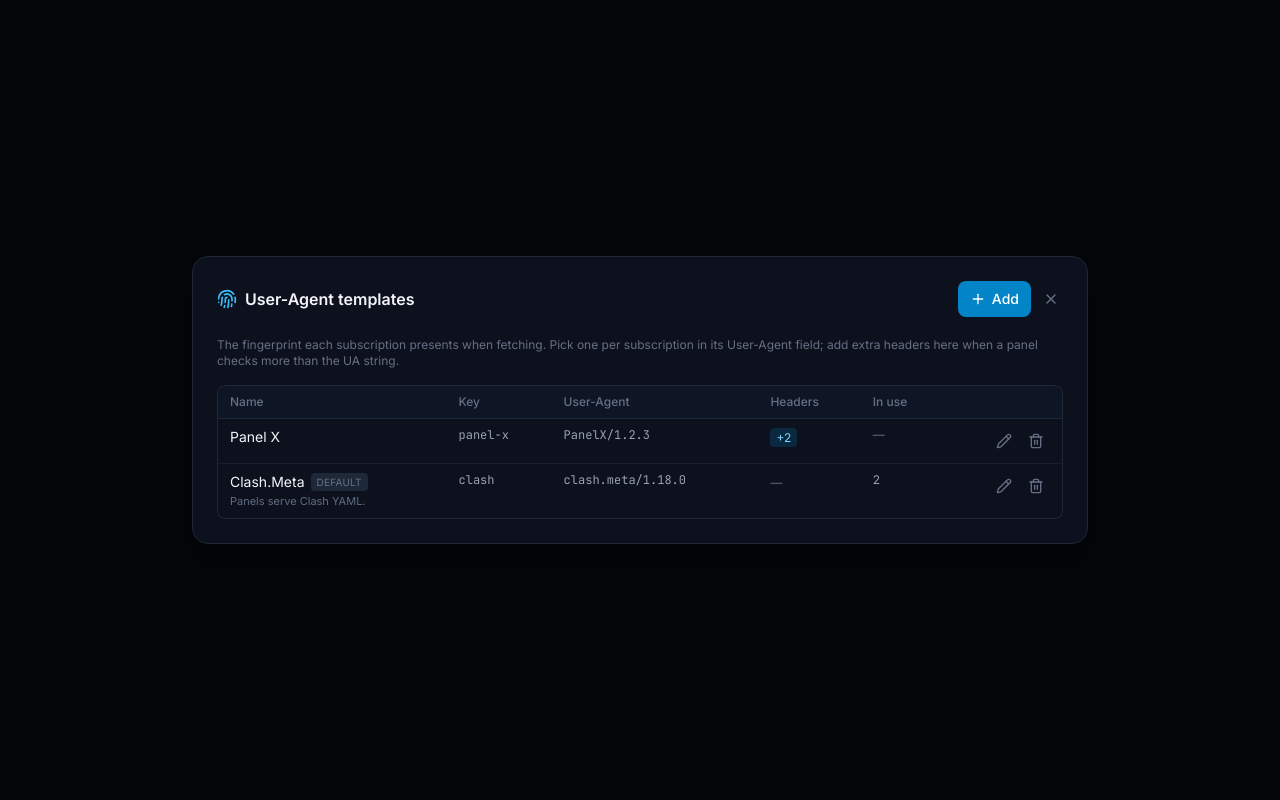
Scenario: <UserAgentTemplatesModal> › blocks a header name the transport owns
Expected: the text "Panel X" is shown, [230,427,280,447]
Click the button "Add".
click(994, 299)  # box [958,281,1031,317]
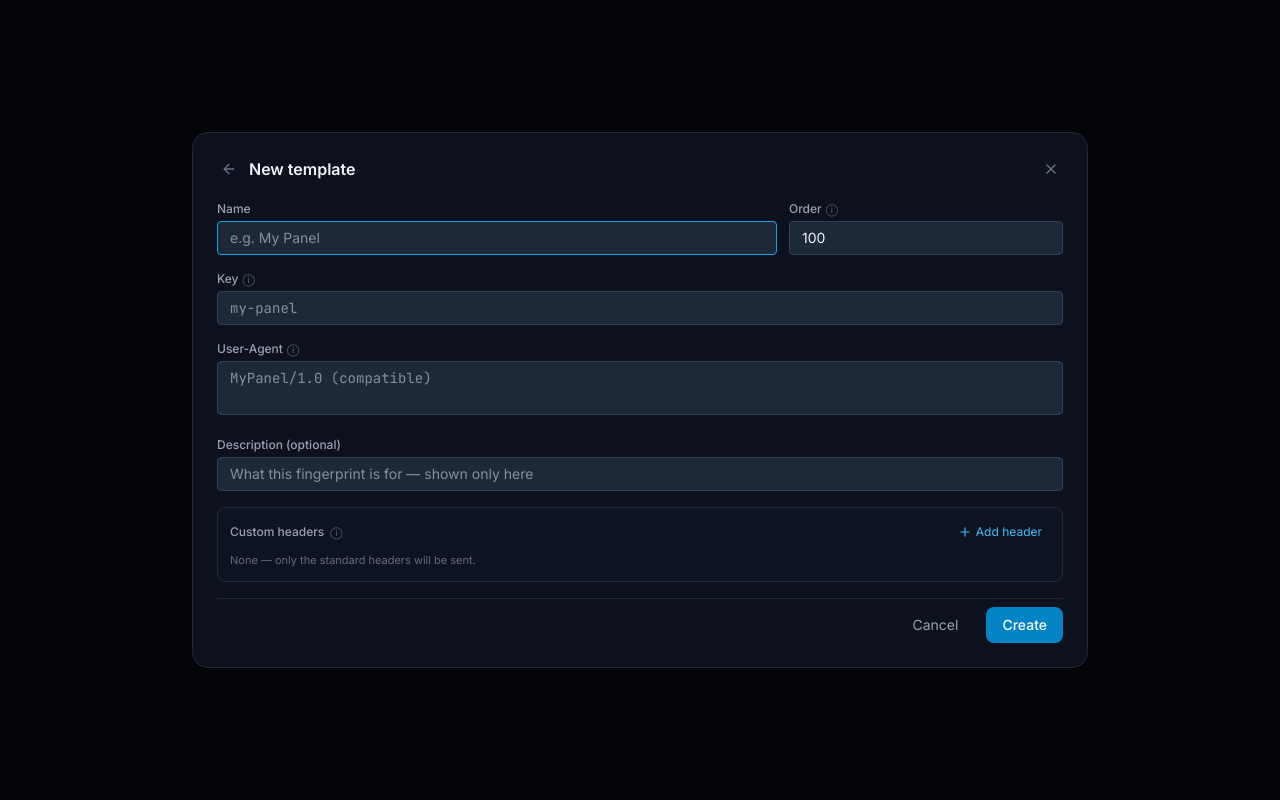
Type "V" into the field labelled "Name".
click(497, 238); type("V")  # box [217,221,777,255]
Type "v" into the field labelled "Key".
click(640, 308); type("v")  # box [217,291,1063,325]
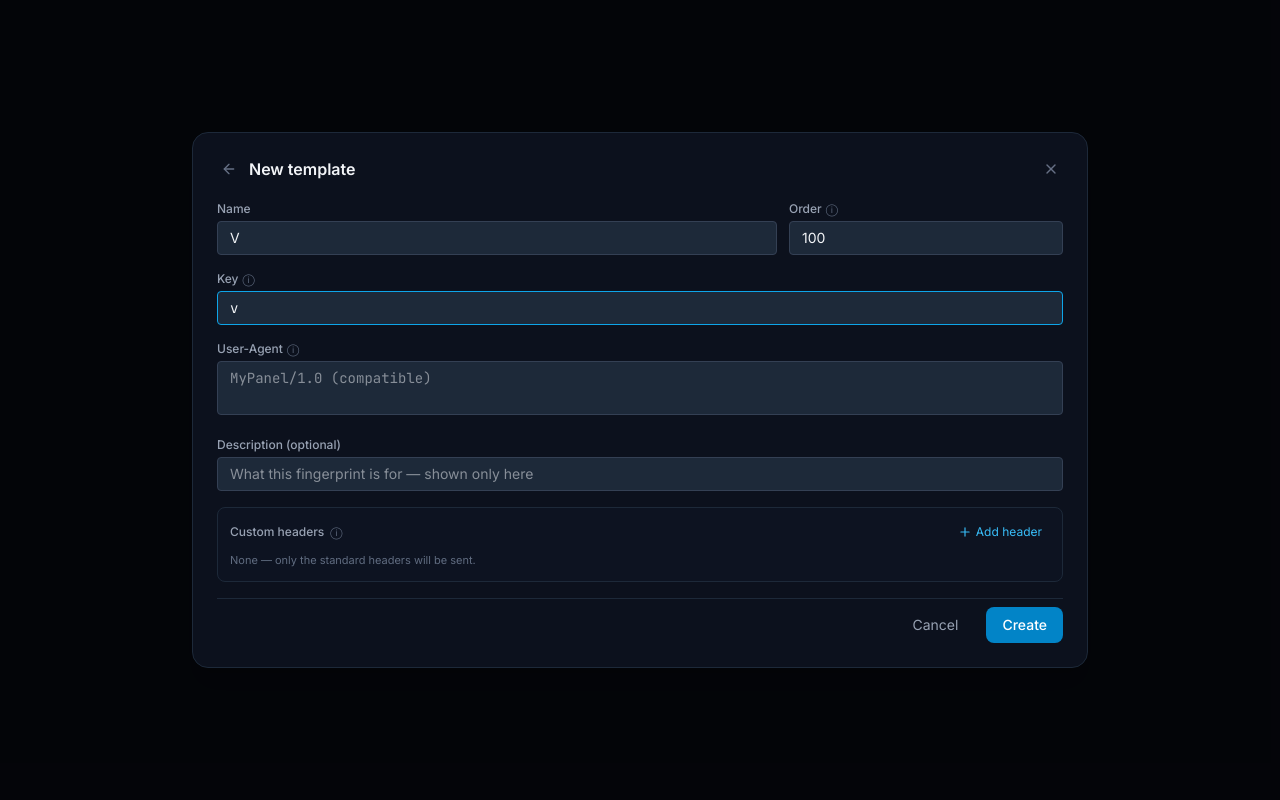
Type "V/1.0" into the text box labelled "User-Agent".
click(640, 388); type("V/1.0")  # box [217,361,1063,415]
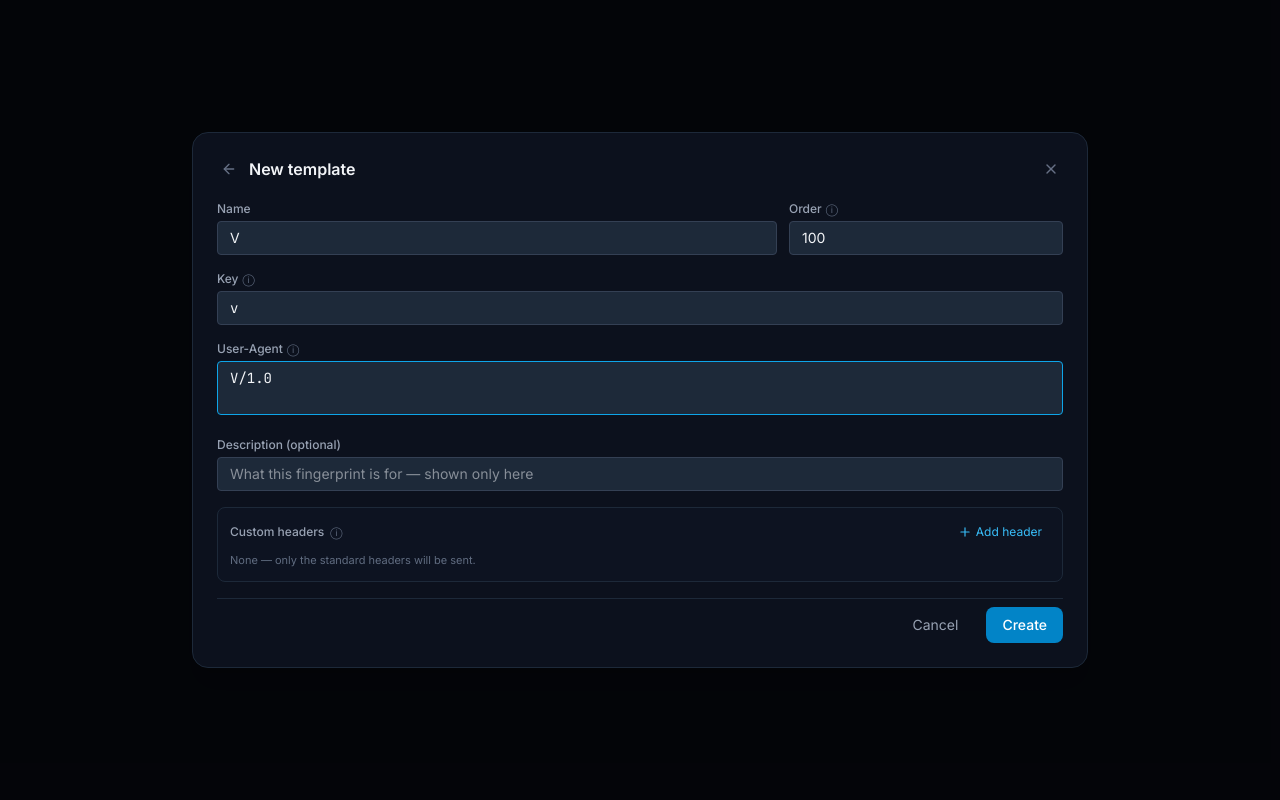
Click the button "Add header".
click(1000, 532)  # box [950,520,1050,544]
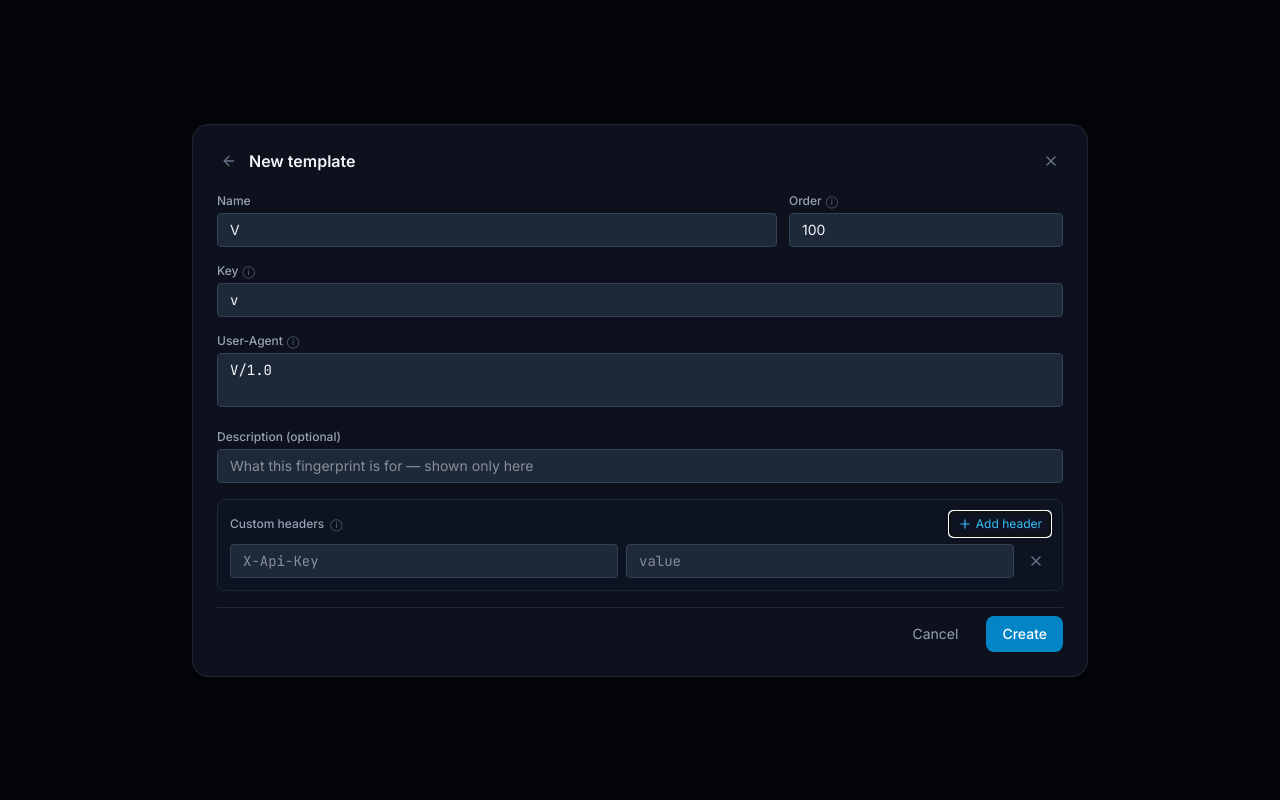
Type "User-Agent" into the field named "header 1 name".
click(424, 560); type("User-Agent")  # box [230,544,618,578]
Type "sneaky" into the field named "header 1 value".
click(820, 560); type("sneaky")  # box [626,544,1014,578]
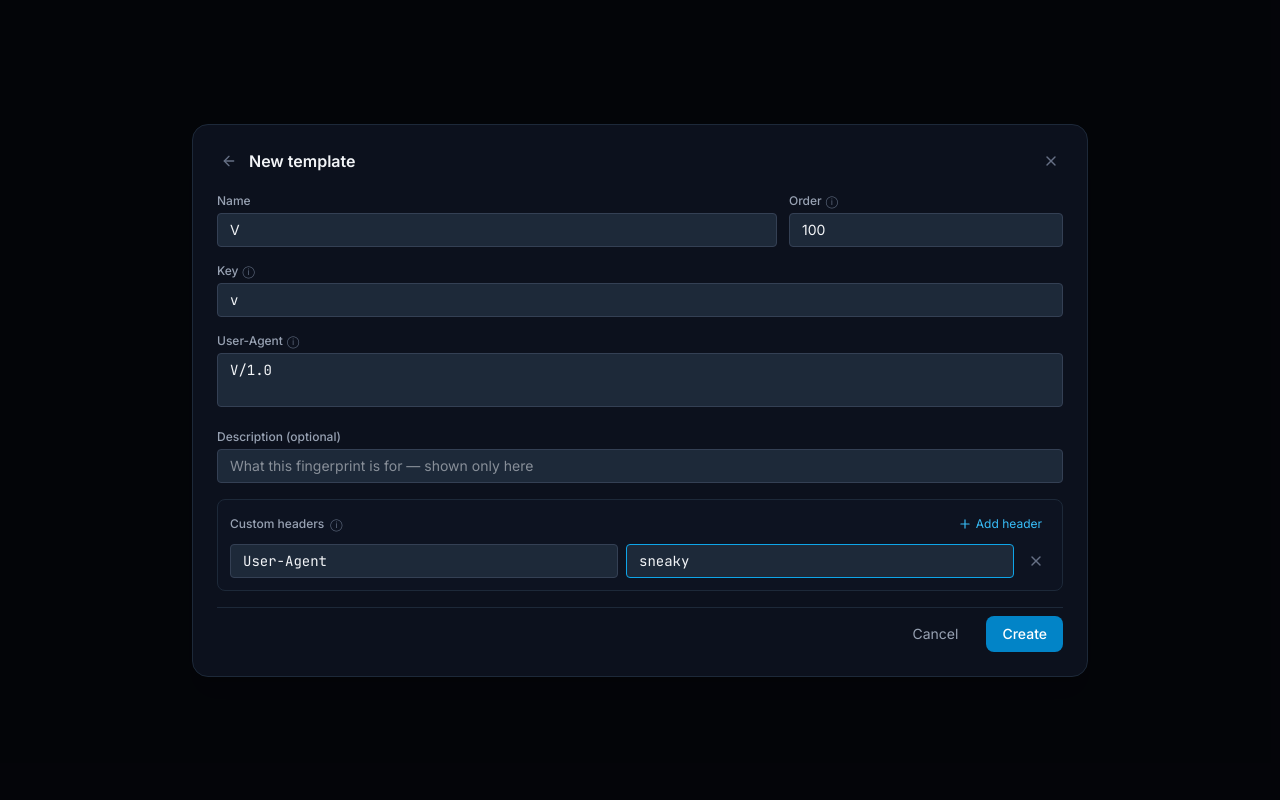
Click the button "Create".
click(1025, 634)  # box [986,616,1063,652]
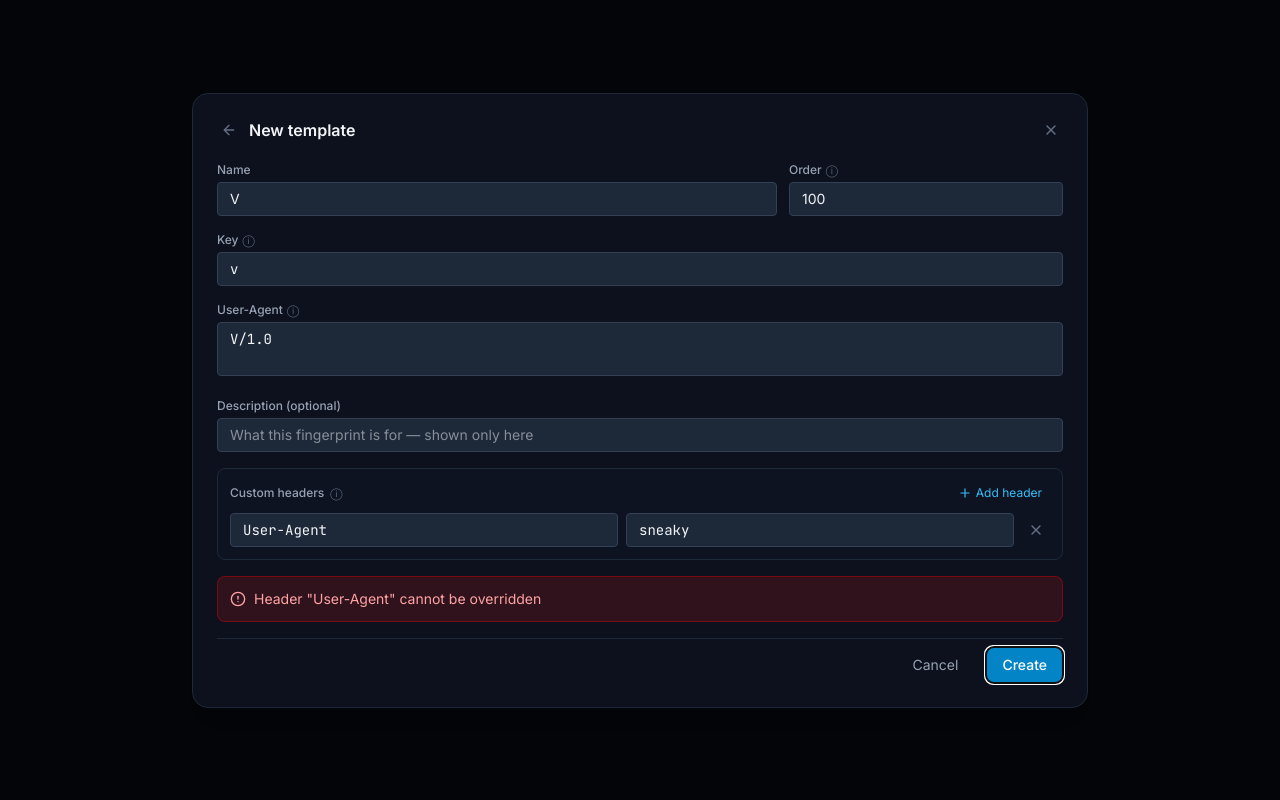
Now the message shows "cannot be overridden", box [254,590,541,606]
